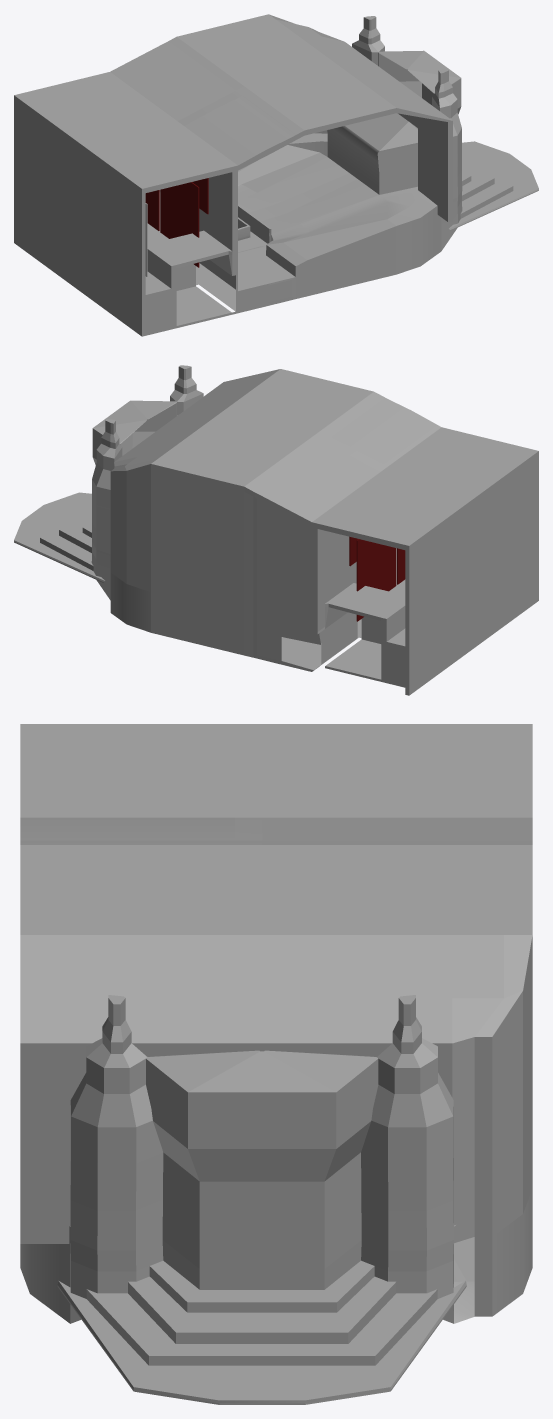
File: Theatre Group.fbx
The picture shows the model from 3 angles, top to bottom: view 1: azimuth 30°, elevation 25°; view 2: azimuth 150°, elevation 25°; view 3: azimuth 270°, elevation 25°; orthographic projection. The views are drawn at different scales.
Visible parts, largest first — view 1: Theatre, Main_Curtain, Main_Curtain1; view 2: Theatre, Main_Curtain1; view 3: Theatre.
Boxes of the visible parts, x1,y1,x2,y2 form: Theatre: (14,14,538,336); Main_Curtain: (160,182,199,267); Main_Curtain1: (145,190,159,230); Theatre: (14,365,538,695); Main_Curtain1: (356,539,396,621); Theatre: (20,724,532,1404).
Bounding box in the file's own units: 88.05 × 32.37 × 44.49.
